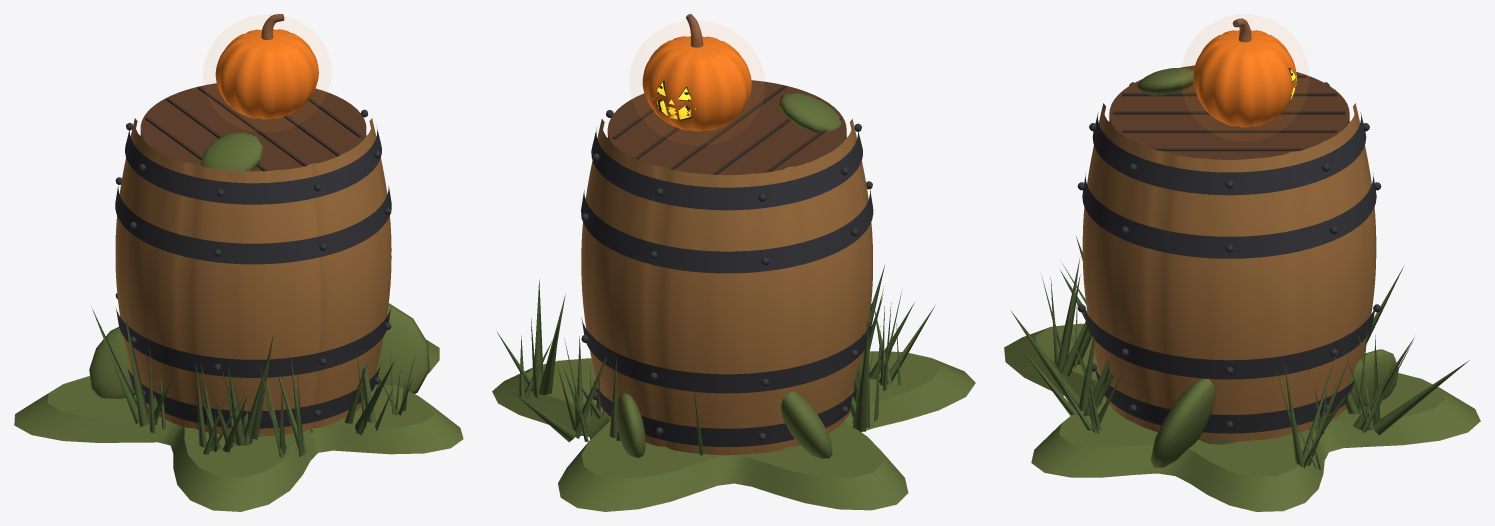
File: BAYOU_BARREL.glb
3 renders of one model, left to right at view 1: azimuth 30°, elevation 25°; view 2: azimuth 150°, elevation 25°; view 3: azimuth 270°, elevation 25°, orthographic. The views are drawn at different scales.
Visible parts, largest first — view 1: Staves, Ground, Hoop (×4), Lid, Grass, Pumpkin, Moss, Lid_Groove; view 2: Staves, Ground, Hoop (×4), Lid, Grass, Pumpkin, Moss, Lid_Groove; view 3: Staves, Ground, Hoop (×4), Lid, Grass, Pumpkin, Moss, Lid_Groove (×3).
Part boxes in pixels (left/top/right/bottom): Staves: left=115, top=118, right=391, bottom=436; Ground: left=14, top=339, right=463, bottom=511; Hoop (×4): left=115, top=126, right=391, bottom=428; Lid: left=140, top=83, right=366, bottom=171; Grass: left=91, top=306, right=415, bottom=458; Pumpkin: left=215, top=29, right=318, bottom=119; Moss: left=89, top=132, right=429, bottom=398; Lid_Groove: left=197, top=86, right=307, bottom=166; Staves: left=581, top=119, right=872, bottom=455; Ground: left=492, top=351, right=975, bottom=511; Hoop (×4): left=581, top=129, right=873, bottom=446; Lid: left=607, top=80, right=846, bottom=175; Grass: left=497, top=265, right=934, bottom=455; Pumpkin: left=642, top=36, right=751, bottom=131; Moss: left=616, top=93, right=841, bottom=458; Lid_Groove: left=669, top=85, right=786, bottom=169; Staves: left=1082, top=103, right=1376, bottom=441; Ground: left=1004, top=323, right=1480, bottom=511; Hoop (×4): left=1082, top=112, right=1376, bottom=433; Lid: left=1109, top=65, right=1349, bottom=159; Grass: left=1011, top=236, right=1469, bottom=469; Pumpkin: left=1193, top=30, right=1296, bottom=127; Moss: left=1136, top=68, right=1398, bottom=467; Lid_Groove (×3): left=1113, top=111, right=1345, bottom=151.
Size of the model in its own units: 4.72 by 4.33 by 4.6.
